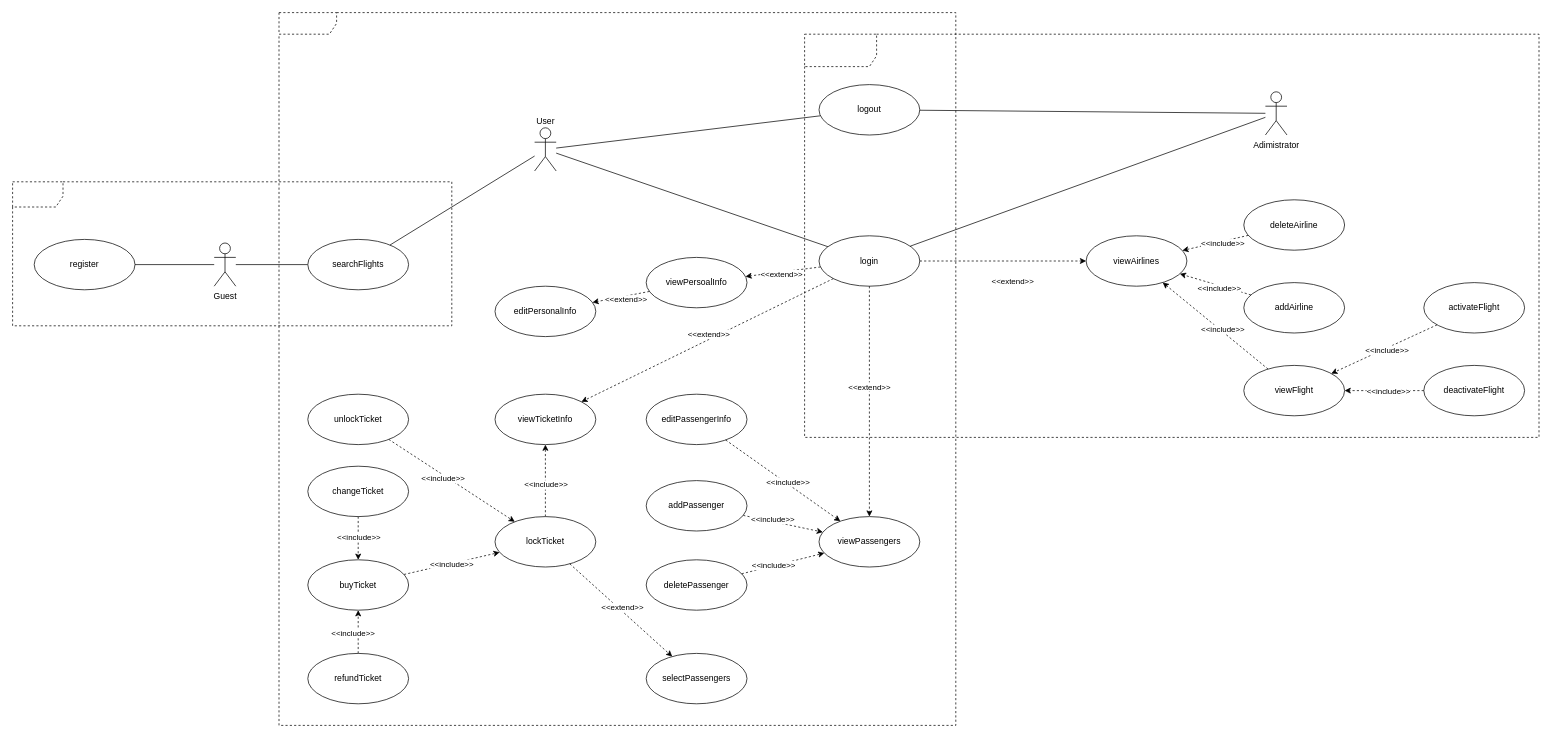
The diagram is 1552 pixels wide and 738 high, and some of its shapes have lost their labels. The shapes that lost their labels are listed below. From the top down, each one's box as (x1, y1, x2, y2) in pixels, then its label:
(12, 181, 452, 326): Guest usecase
(804, 33, 1539, 437): Administrator usecases
(278, 12, 956, 725): User usecase
